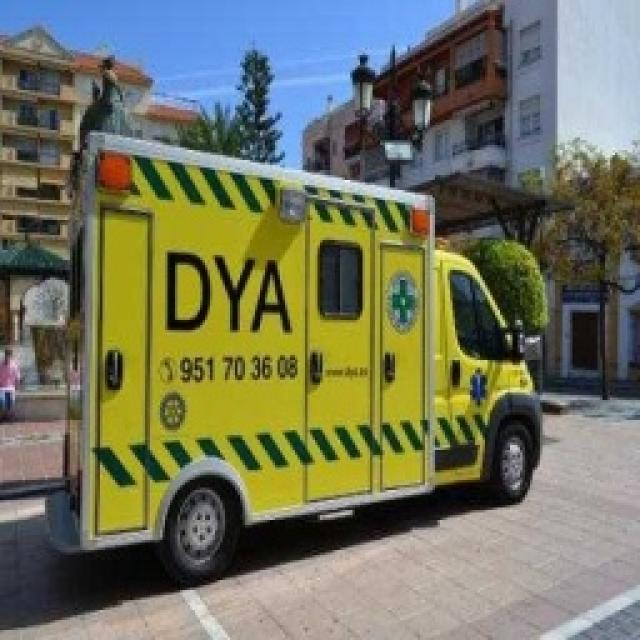emergency-vehicle: (61, 119, 556, 556)
